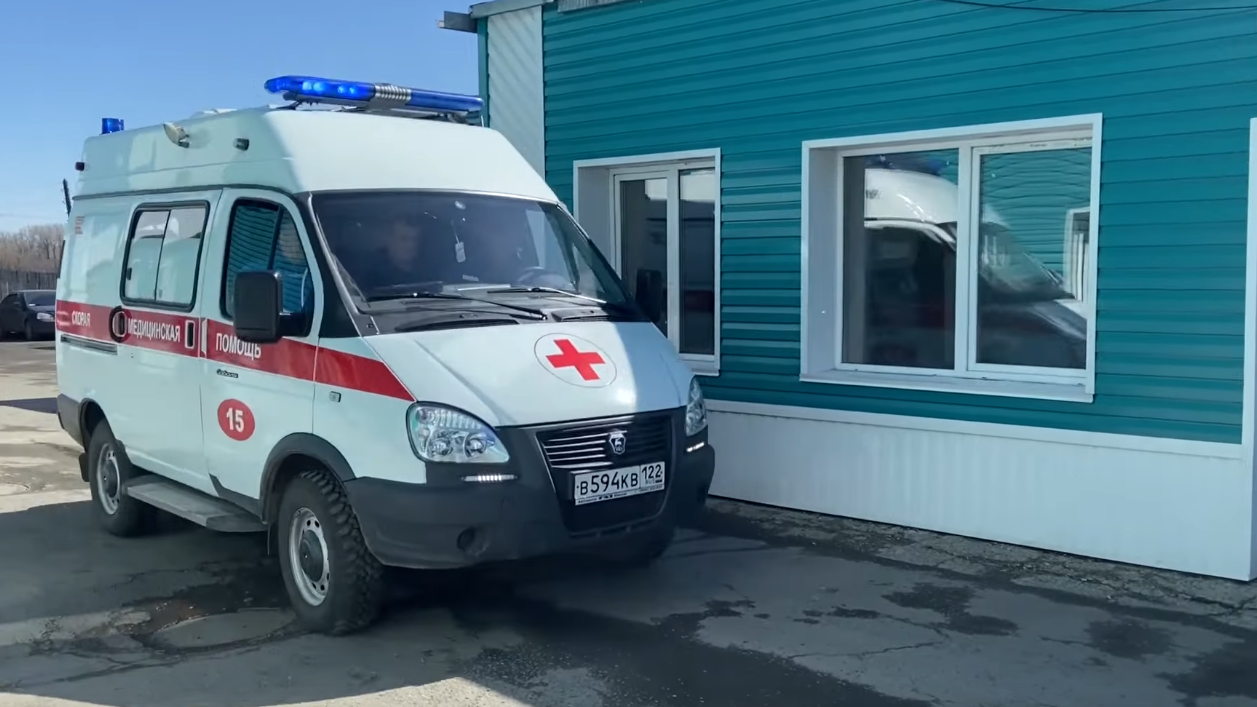ambulance: (49, 61, 715, 636)
